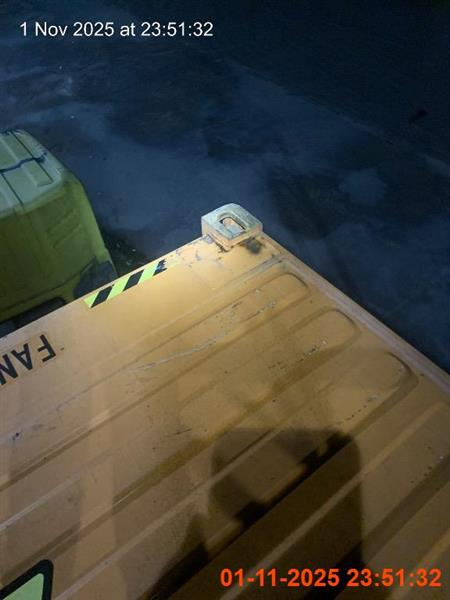crack: (0, 126, 449, 598)
